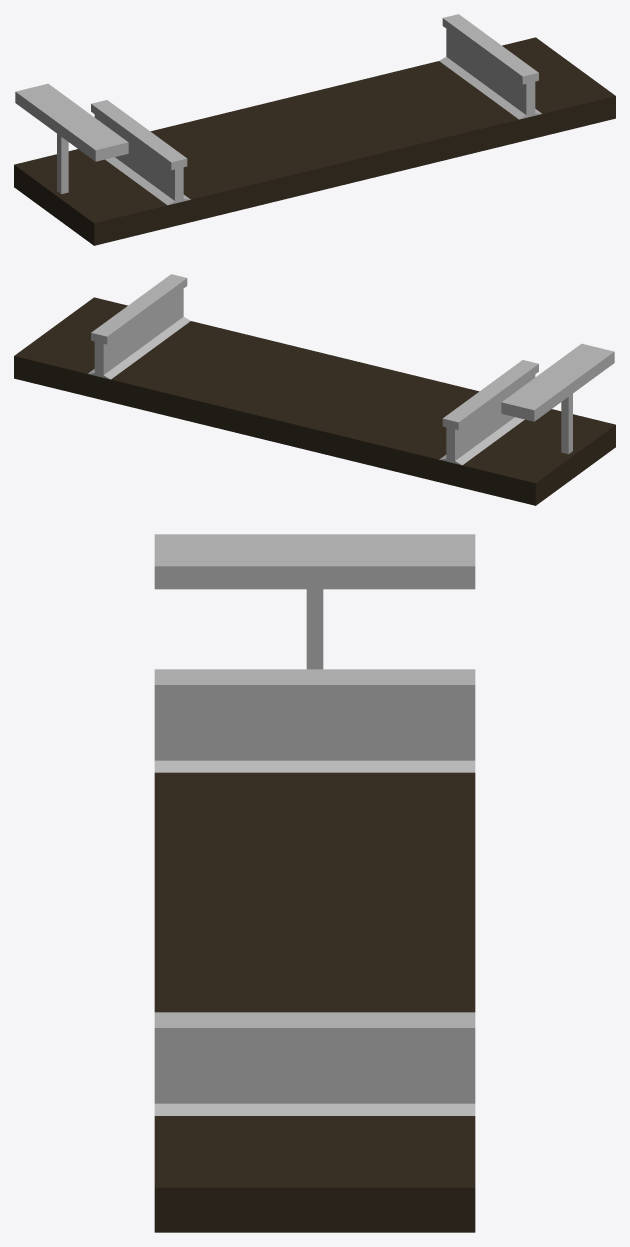
Rendered from dc_metro_rail_1_third_rail.obj.
3 renders of one model, top to bottom at view 1: azimuth 30°, elevation 25°; view 2: azimuth 150°, elevation 25°; view 3: azimuth 270°, elevation 25°, orthographic. The views are drawn at different scales.
Visible parts, largest first — view 1: cube; view 2: cube; view 3: cube.
Part boxes in pixels (<box>): cube: <box>14,14,615,245</box>; cube: <box>14,274,615,505</box>; cube: <box>154,534,475,1232</box>.
Bounding box in the file's own units: 2.23 × 0.3891 × 0.5938.
2 materials, 2 textured.
